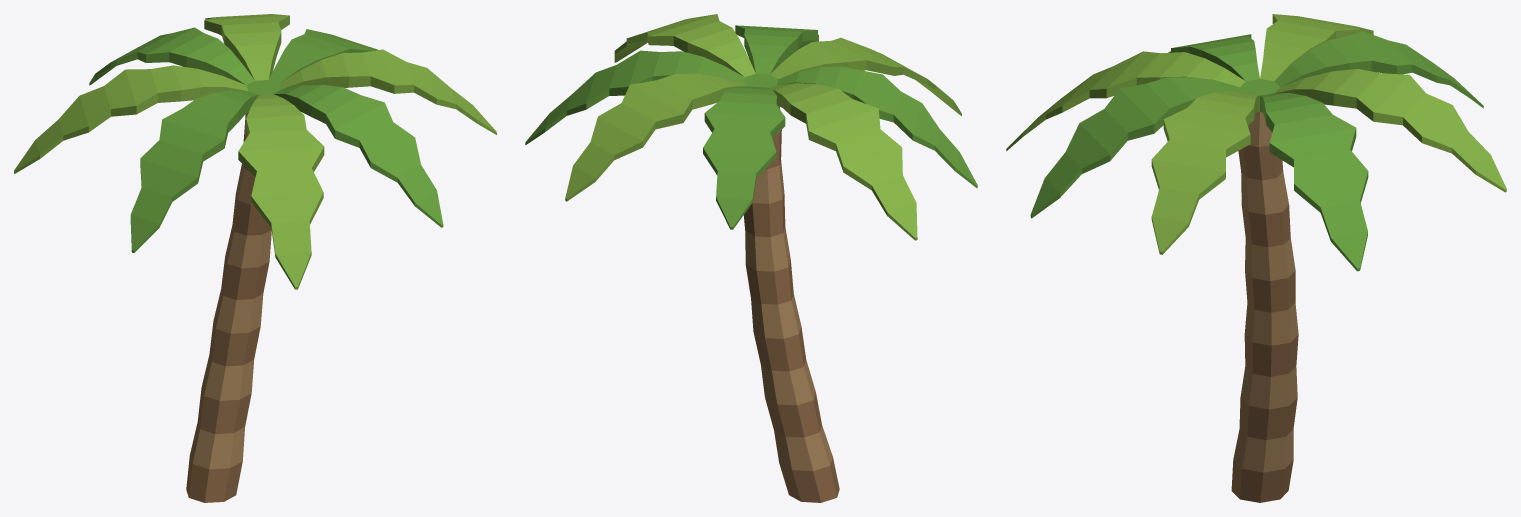
The model's file is NEW_RECOVERY_026_LOD2.glb.
3 renders of one model, left to right at view 1: azimuth 30°, elevation 25°; view 2: azimuth 150°, elevation 25°; view 3: azimuth 270°, elevation 25°, orthographic. The views are drawn at different scales.
Visible parts, largest first — view 1: Whole_Palm; view 2: Whole_Palm; view 3: Whole_Palm.
Part boxes in pixels (bbox=[...]): Whole_Palm: bbox=[14, 14, 496, 502]; Whole_Palm: bbox=[525, 14, 977, 502]; Whole_Palm: bbox=[1006, 14, 1506, 502].
Size of the model in its own units: 3.84 by 3.88 by 3.87.
